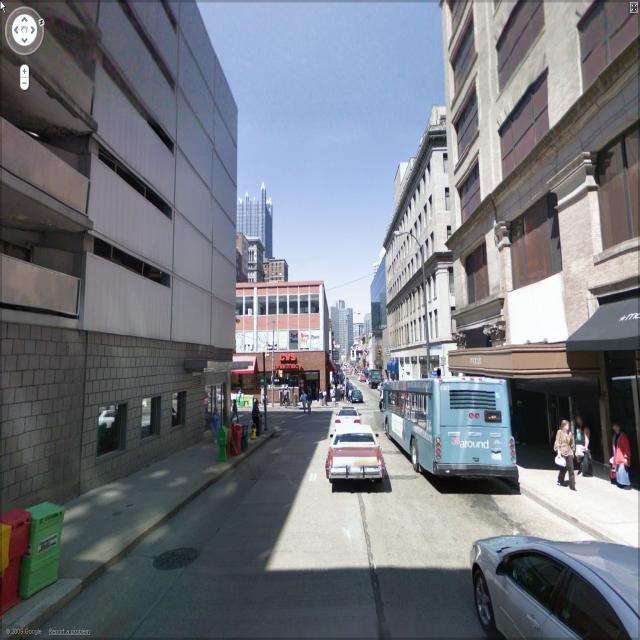b_1: (1, 1, 238, 447), (442, 6, 640, 406), (393, 137, 457, 401), (230, 283, 332, 402), (226, 187, 284, 264), (364, 264, 400, 383), (321, 286, 357, 378)
